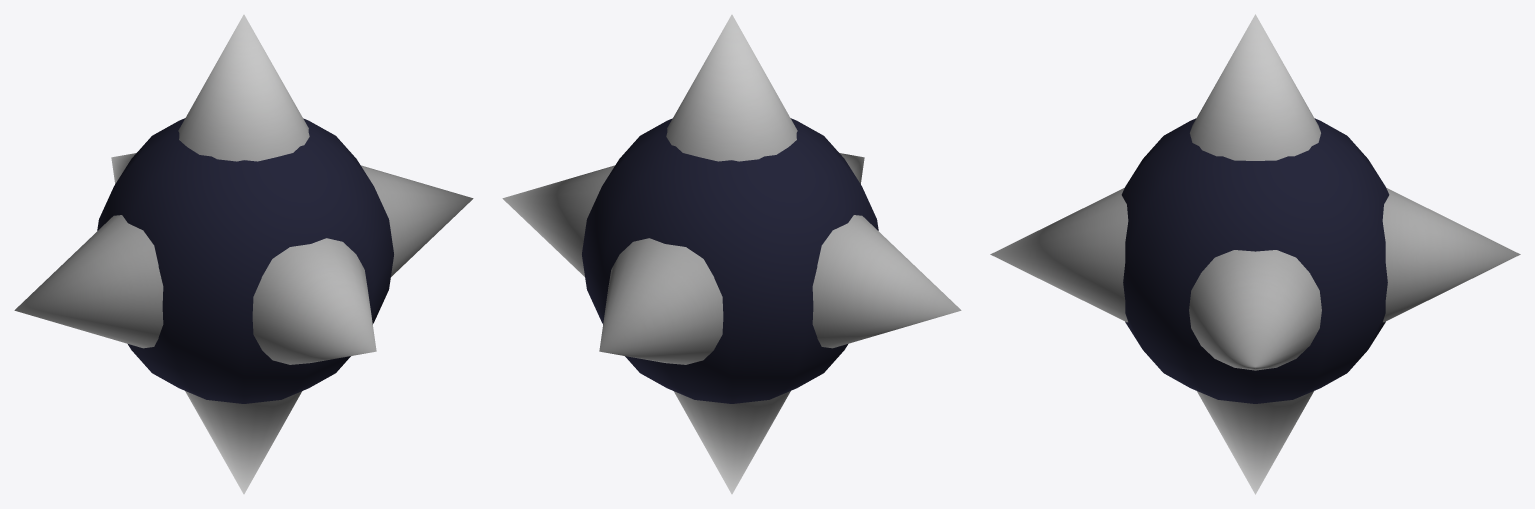
The model's file is Piques.fbx.
3 views of the same model, side by side, from view 1: azimuth 30°, elevation 25°; view 2: azimuth 150°, elevation 25°; view 3: azimuth 270°, elevation 25° (orthographic).
Visible parts, largest first — view 1: boule_pique; view 2: boule_pique; view 3: boule_pique.
Part boxes in pixels (bbox=[...]): boule_pique: bbox=[14, 14, 473, 494]; boule_pique: bbox=[502, 14, 961, 494]; boule_pique: bbox=[990, 14, 1520, 494].
Bounding box in the file's own units: 118 × 118 × 118.
1 material, 1 textured.
